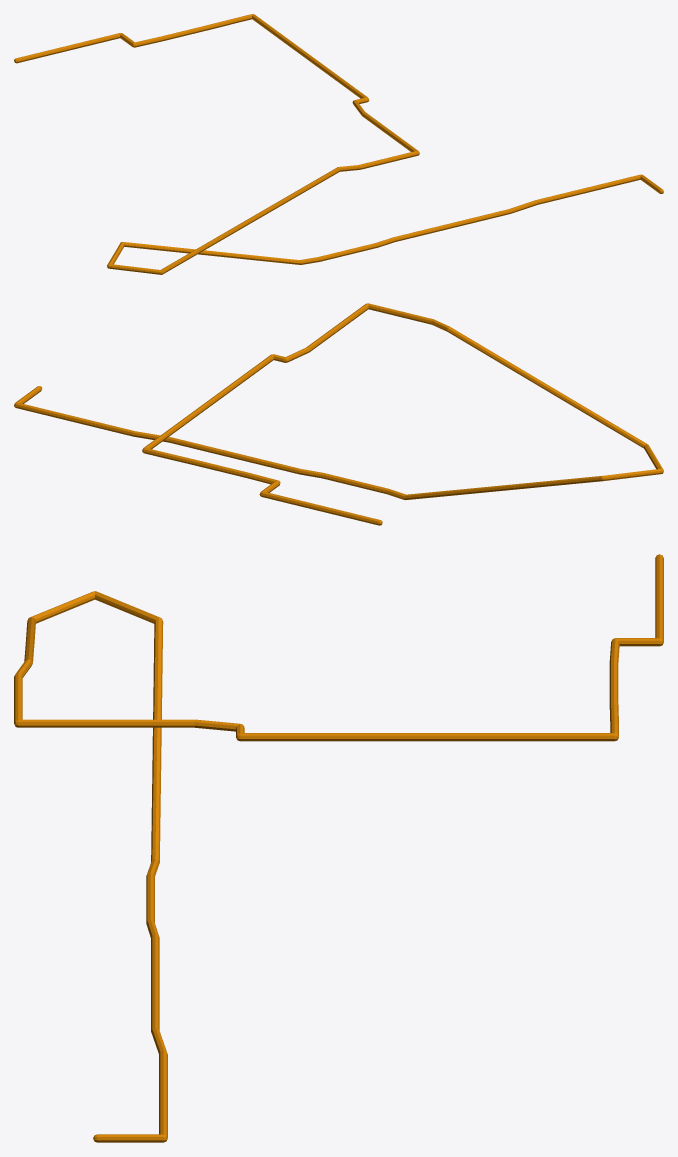
3 views of the same model, one above another, from view 1: azimuth 30°, elevation 25°; view 2: azimuth 150°, elevation 25°; view 3: azimuth 270°, elevation 25° (orthographic). The views are drawn at different scales.
Bounding box in the file's own units: 2402 × 520 × 1475.
